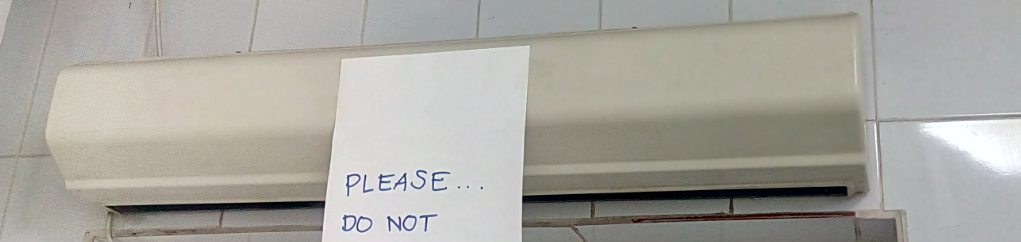Air Curtain: (43, 9, 901, 223)
